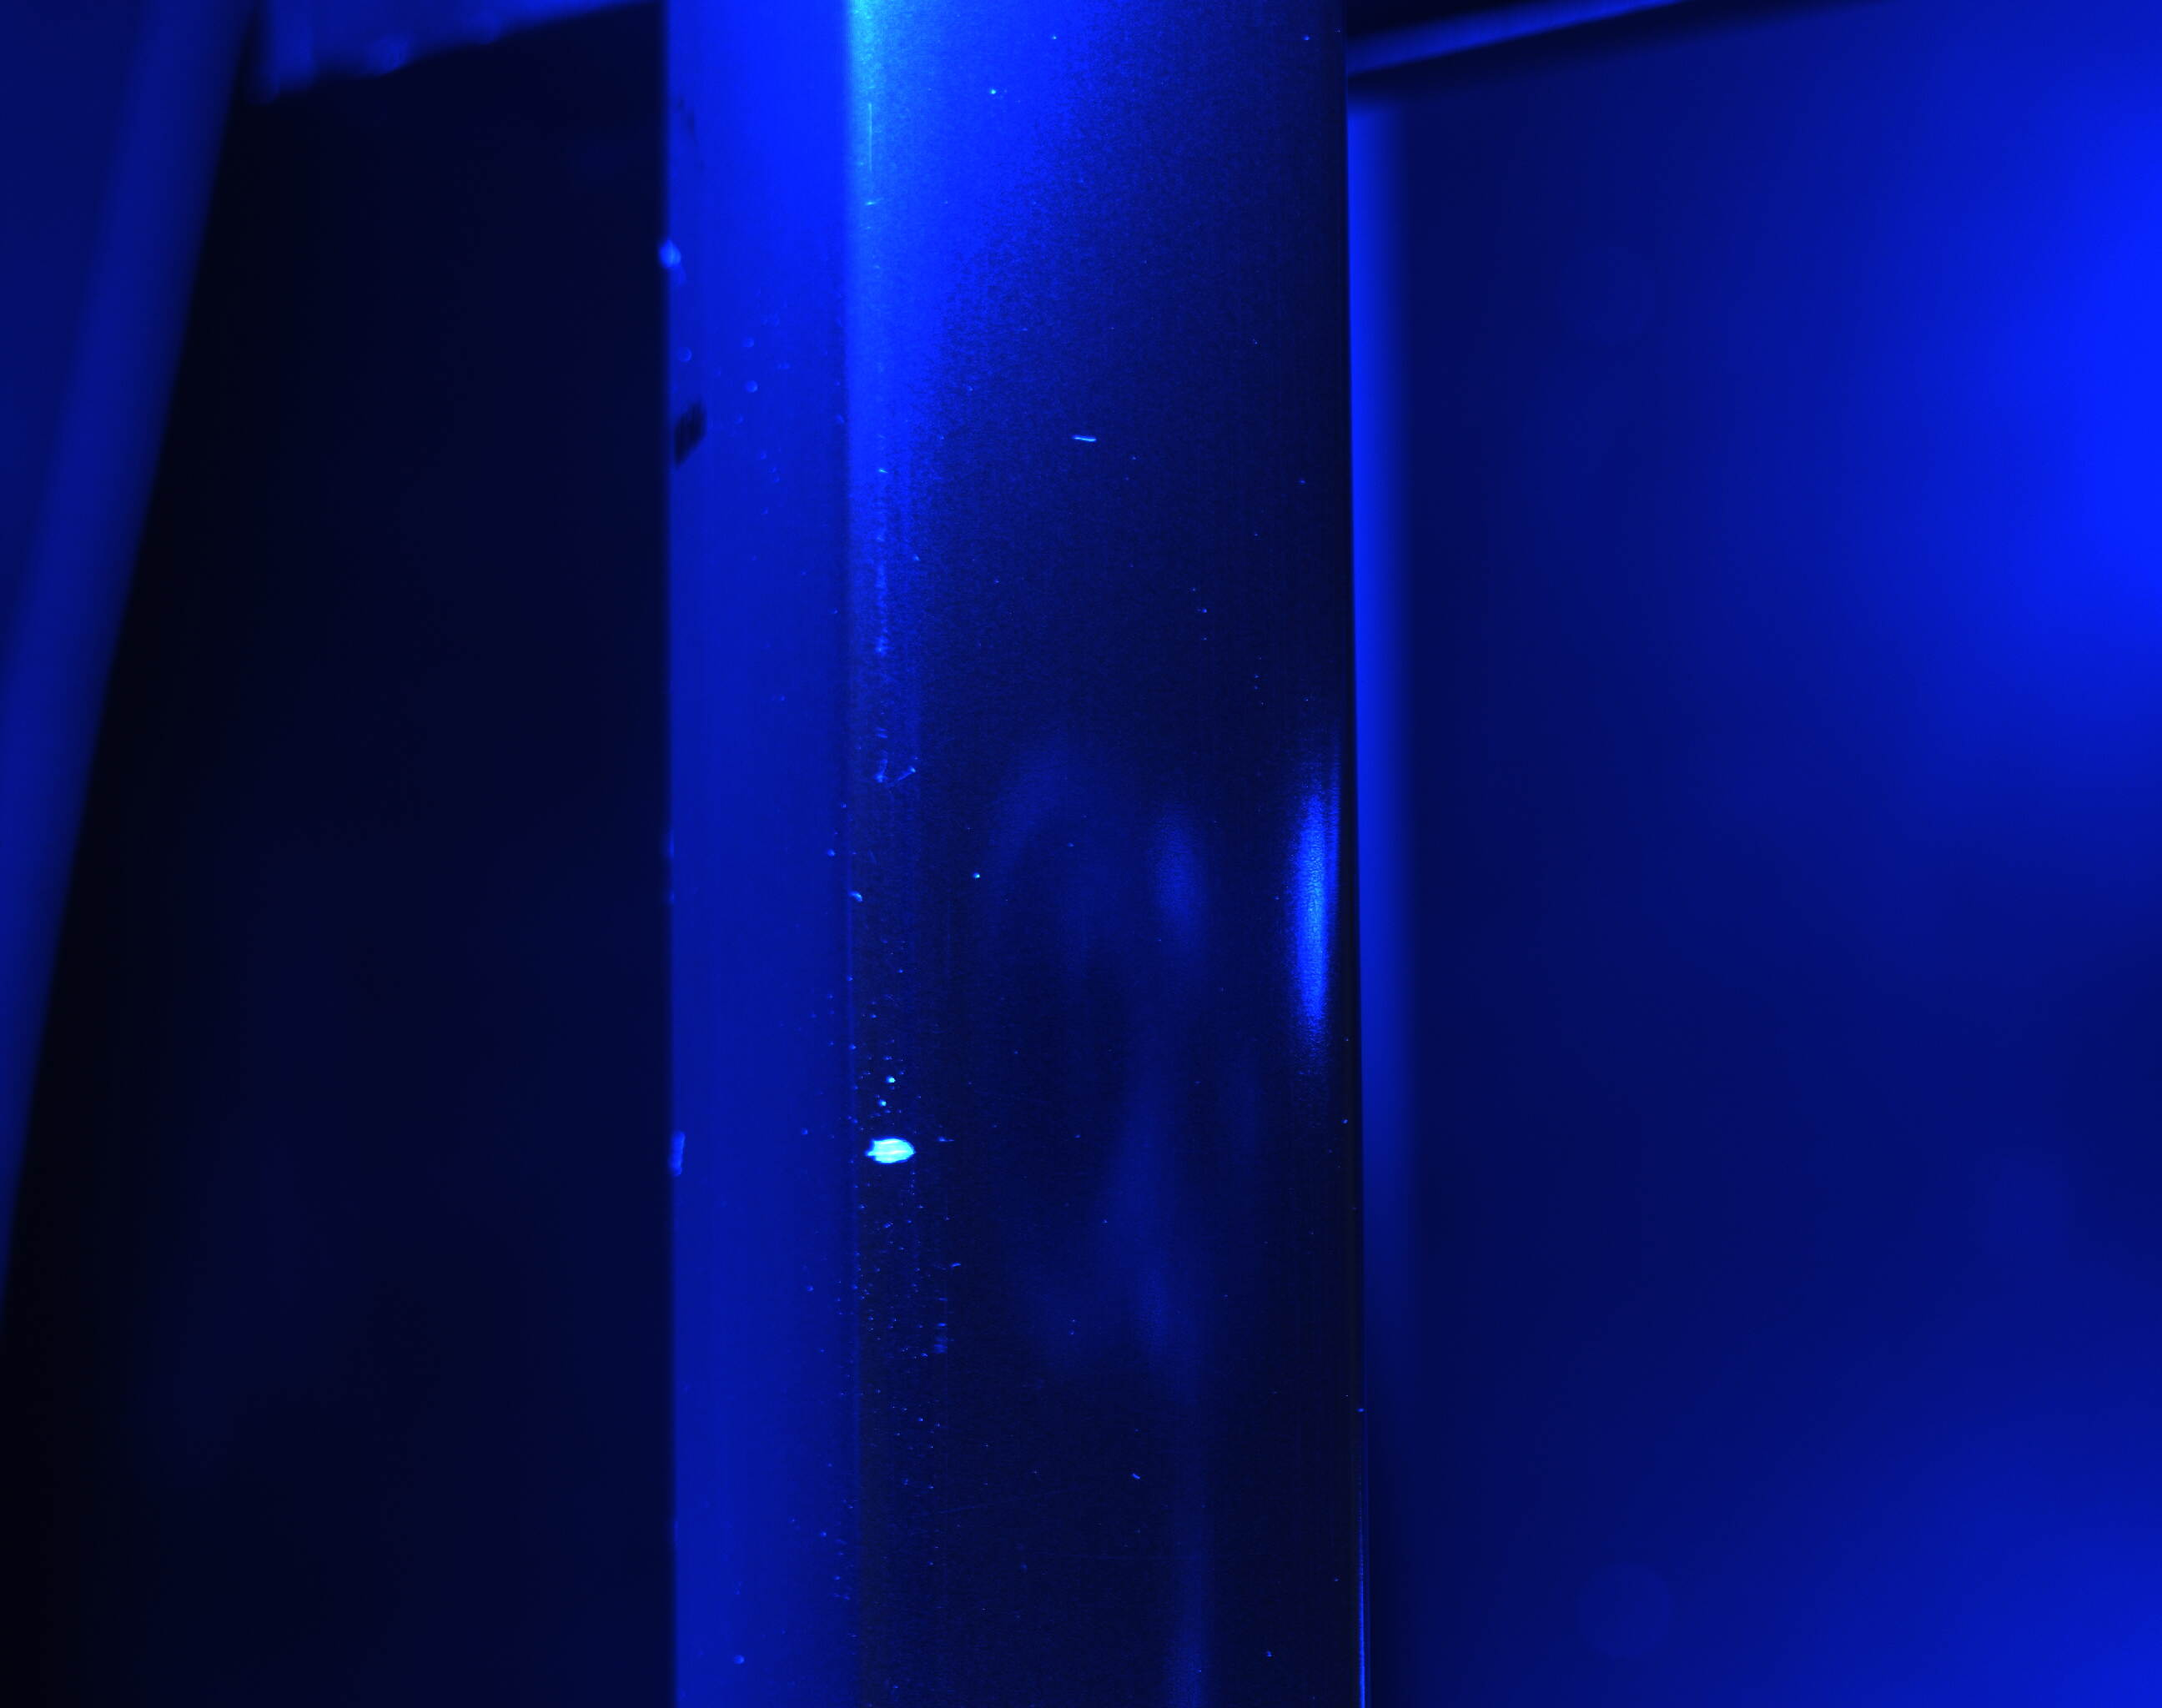NG: (851, 1092, 941, 1209), (1058, 423, 1118, 470)
